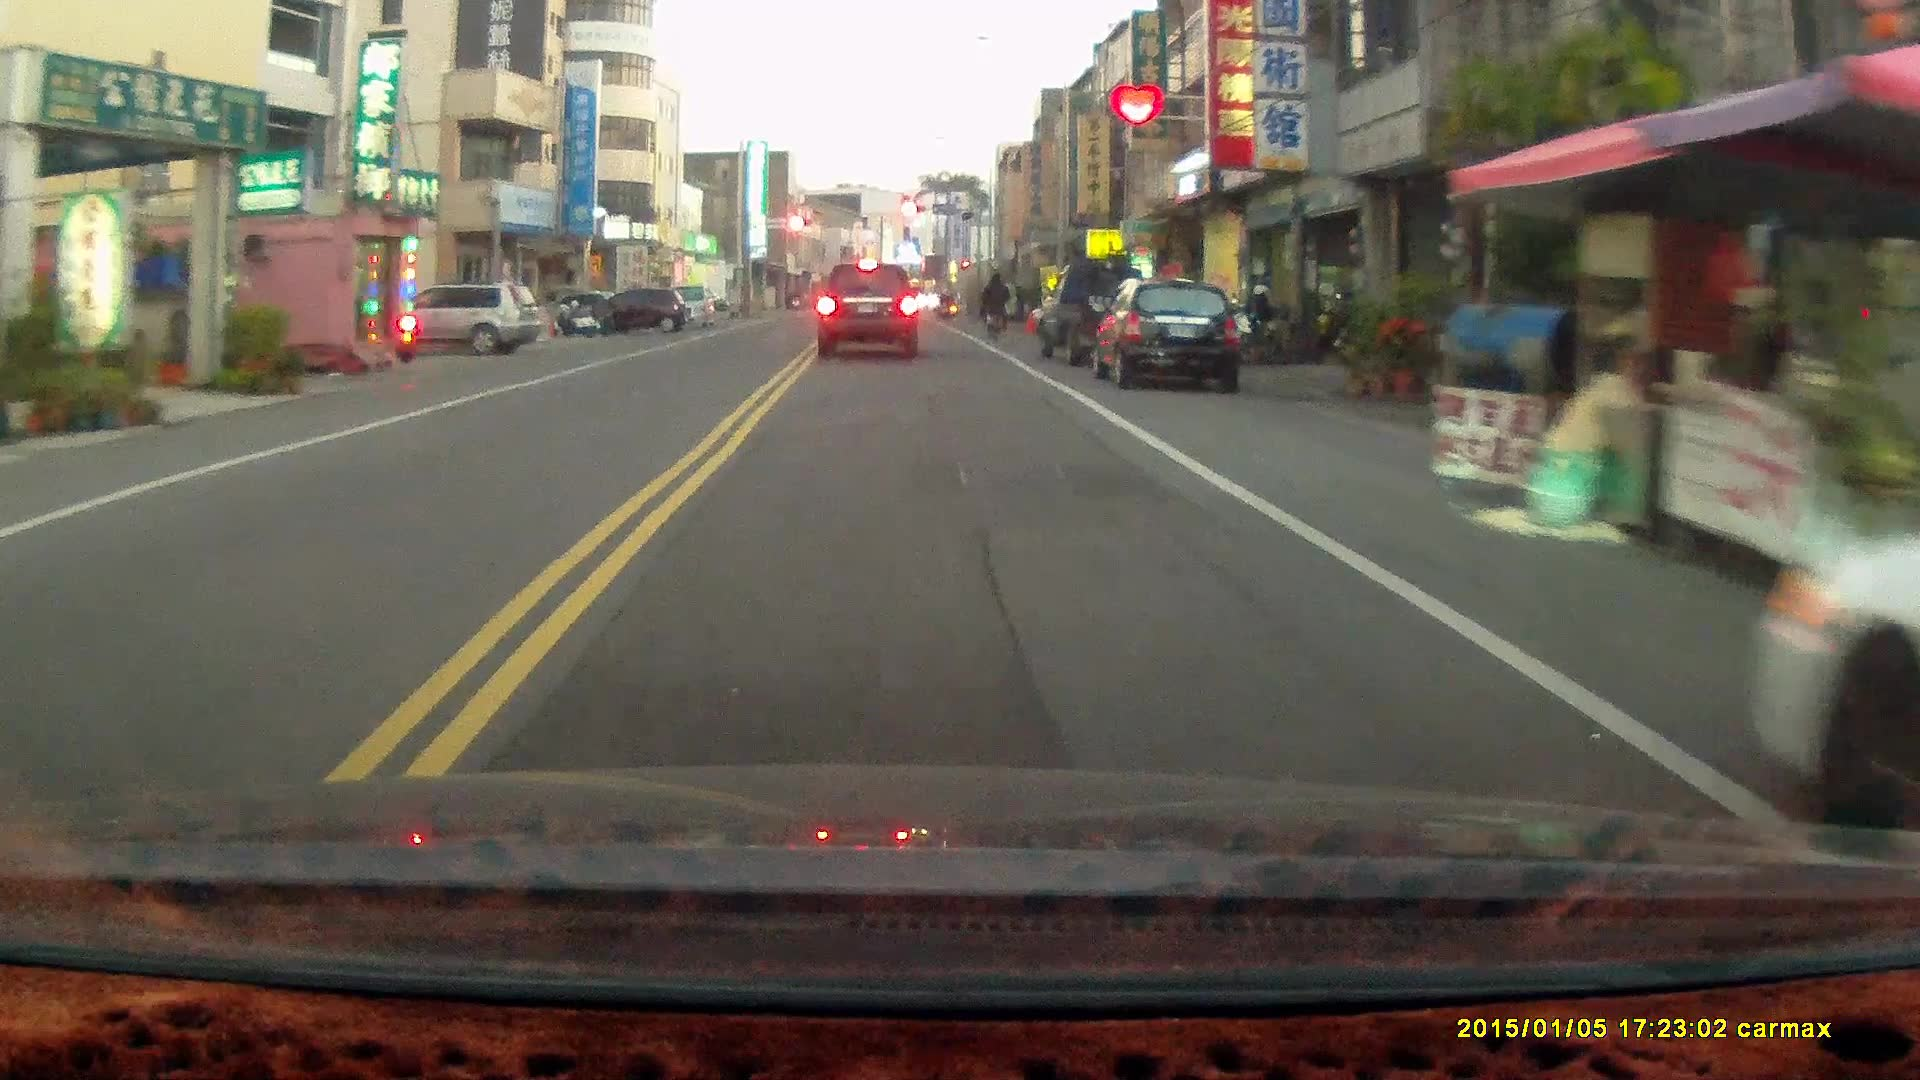rider: (979, 270, 1010, 341)
vehicle: (1096, 281, 1249, 397), (359, 282, 543, 354), (815, 262, 923, 361), (571, 291, 691, 334)
